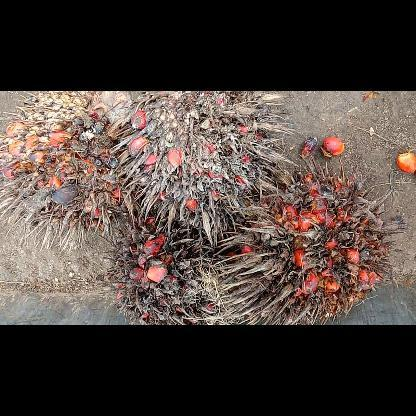Terlalu masak: (215, 156, 407, 324), (105, 91, 303, 245), (0, 91, 142, 255), (100, 206, 252, 324)
